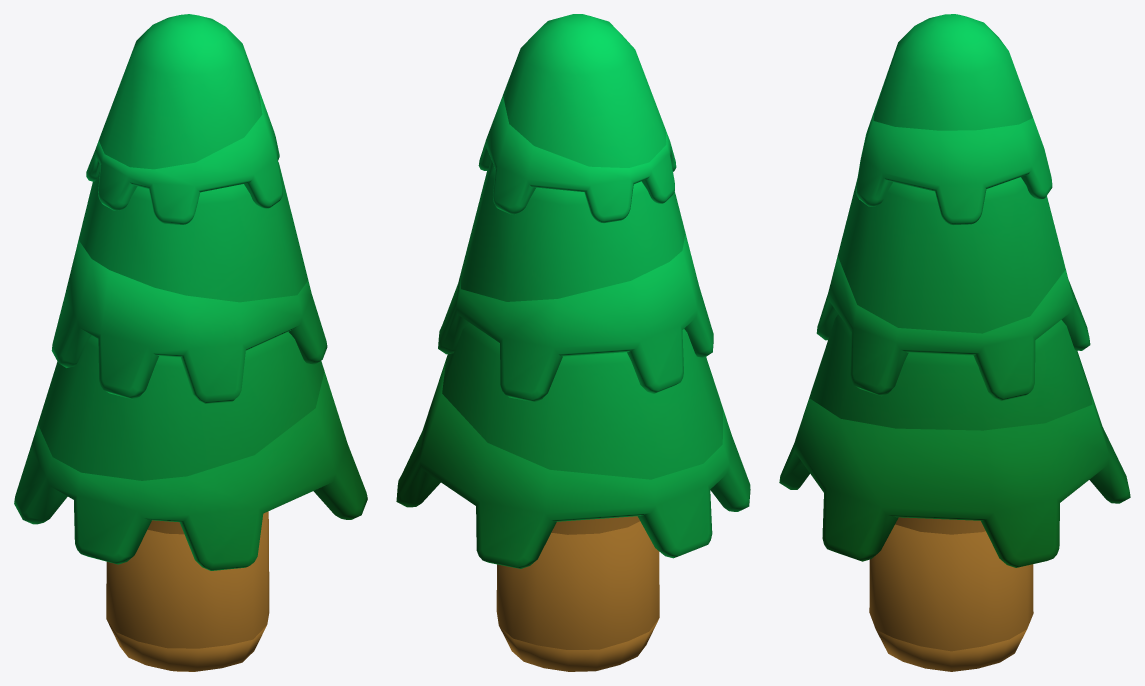
File: Trees.fbx
3 renders of one model, left to right at view 1: azimuth 30°, elevation 25°; view 2: azimuth 150°, elevation 25°; view 3: azimuth 270°, elevation 25°, orthographic.
Parts seen in each view (by area): view 1: Trtee_Cuts4, Trtee_Cuts3, Trtee_Cuts5, Trtee_Cuts2, Trtee_Cuts6, Trtee_Cuts1; view 2: Trtee_Cuts4, Trtee_Cuts3, Trtee_Cuts5, Trtee_Cuts2, Trtee_Cuts6, Trtee_Cuts1; view 3: Trtee_Cuts3, Trtee_Cuts5, Trtee_Cuts4, Trtee_Cuts6, Trtee_Cuts2, Trtee_Cuts1.
Boxes of the visible parts, box(x1,y1,x2,y2) form: Trtee_Cuts4: box(38, 240, 327, 480); Trtee_Cuts3: box(78, 89, 308, 302); Trtee_Cuts5: box(14, 372, 367, 570); Trtee_Cuts2: box(99, 14, 262, 169); Trtee_Cuts6: box(106, 511, 269, 648); Trtee_Cuts1: box(107, 620, 266, 671); Trtee_Cuts4: box(438, 233, 722, 479); Trtee_Cuts3: box(461, 95, 685, 301); Trtee_Cuts5: box(396, 359, 750, 568); Trtee_Cuts2: box(503, 14, 666, 167); Trtee_Cuts6: box(496, 521, 659, 649); Trtee_Cuts1: box(499, 619, 658, 671); Trtee_Cuts3: box(837, 111, 1065, 333); Trtee_Cuts5: box(779, 389, 1130, 567); Trtee_Cuts4: box(809, 247, 1092, 430); Trtee_Cuts6: box(869, 524, 1033, 651); Trtee_Cuts2: box(873, 14, 1032, 130); Trtee_Cuts1: box(876, 629, 1026, 671).
Bounding box in the file's own units: 5.38 × 11.02 × 5.58.
3 materials, 1 textured.
